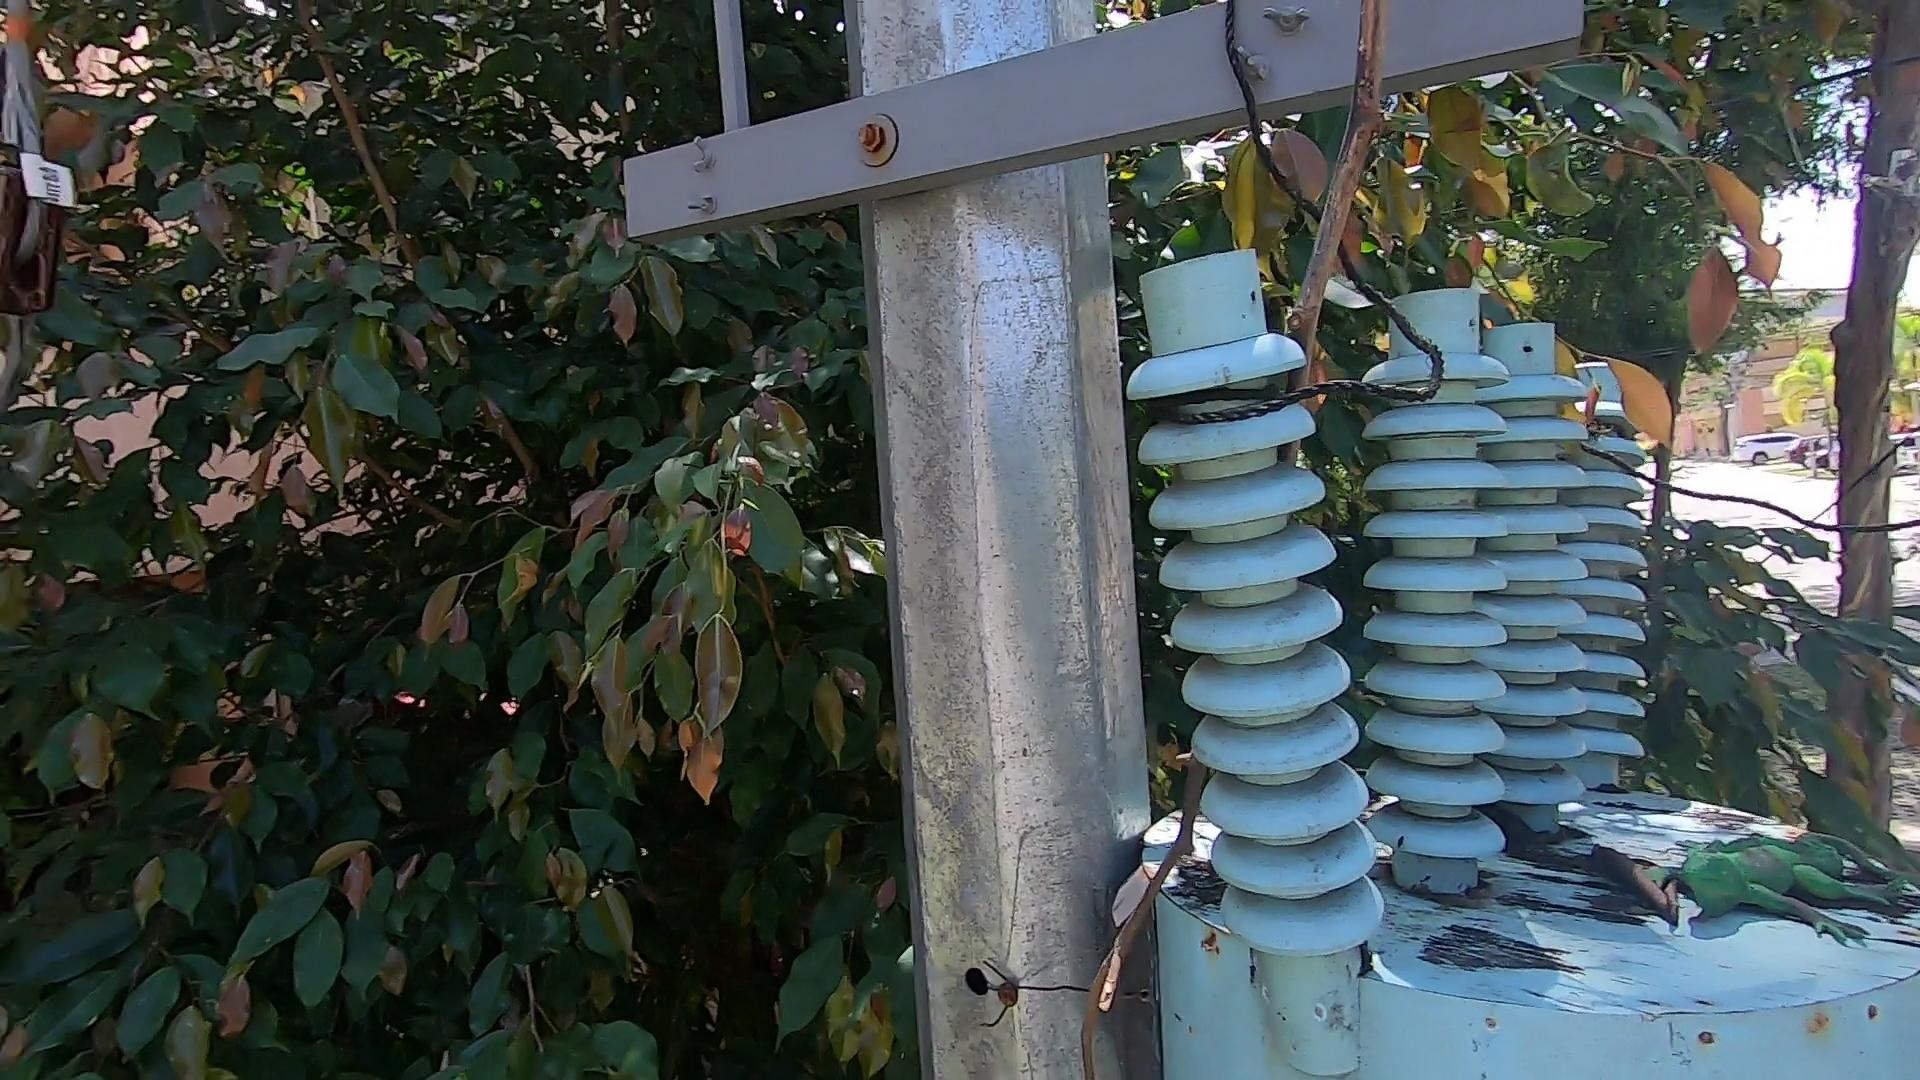branch with leaves: (1501, 314, 1708, 477)
leaf: (1590, 835, 1669, 945), (1163, 848, 1232, 903), (1486, 803, 1542, 858)
tree branch: (1010, 7, 1415, 1080)
